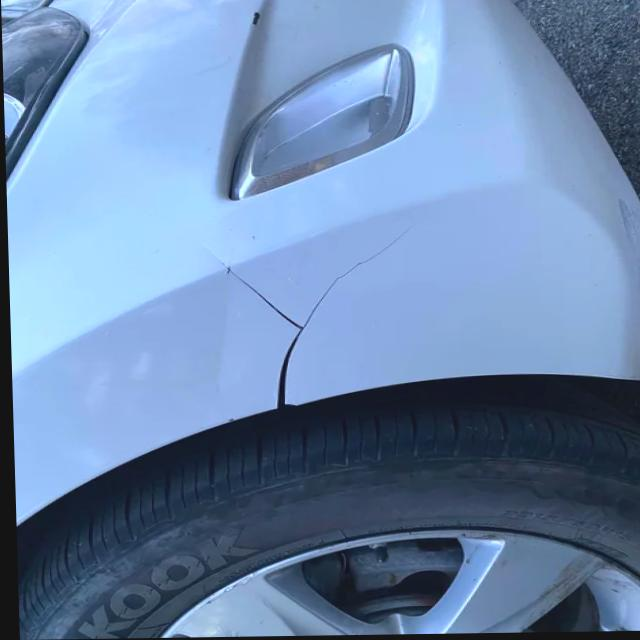Crack: (206, 221, 413, 412)
Scratch: (252, 10, 261, 29)
